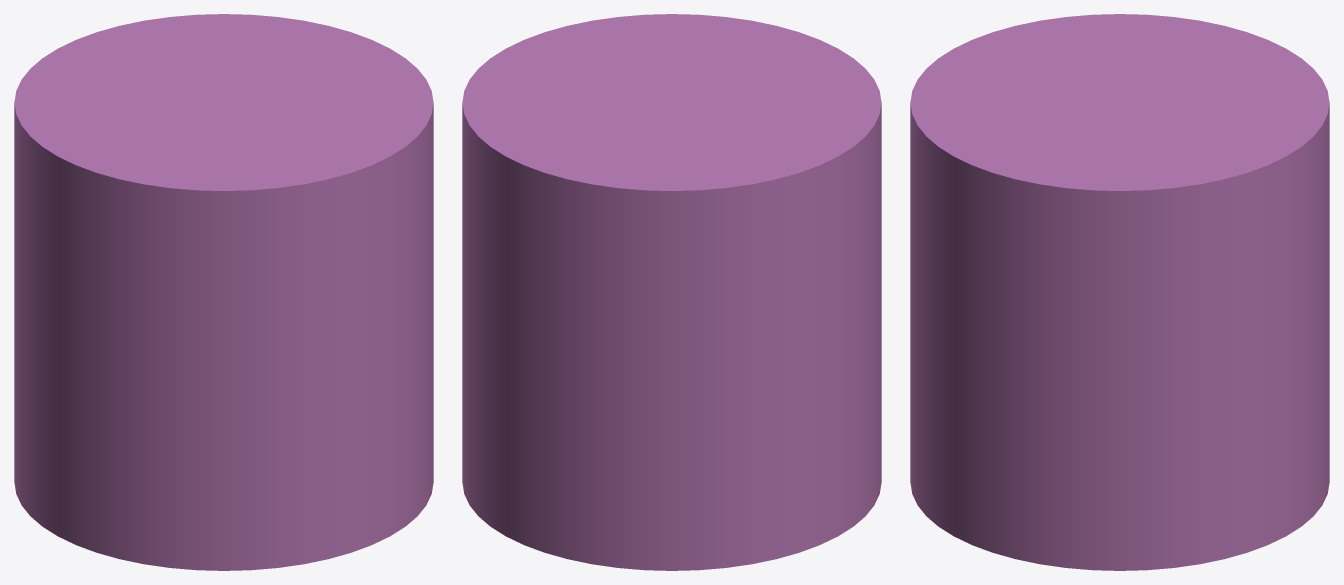
Rendered from cil.glb.
3 views of the same model, side by side, from view 1: azimuth 30°, elevation 25°; view 2: azimuth 150°, elevation 25°; view 3: azimuth 270°, elevation 25° (orthographic).
Parts seen in each view (by area): view 1: Cylinder; view 2: Cylinder; view 3: Cylinder.
Boxes of the visible parts, x1=… form: Cylinder: x1=14, y1=14, x2=433, y2=570; Cylinder: x1=462, y1=14, x2=881, y2=570; Cylinder: x1=910, y1=14, x2=1329, y2=570.
Bounding box in the file's own units: 1 × 1 × 1.
